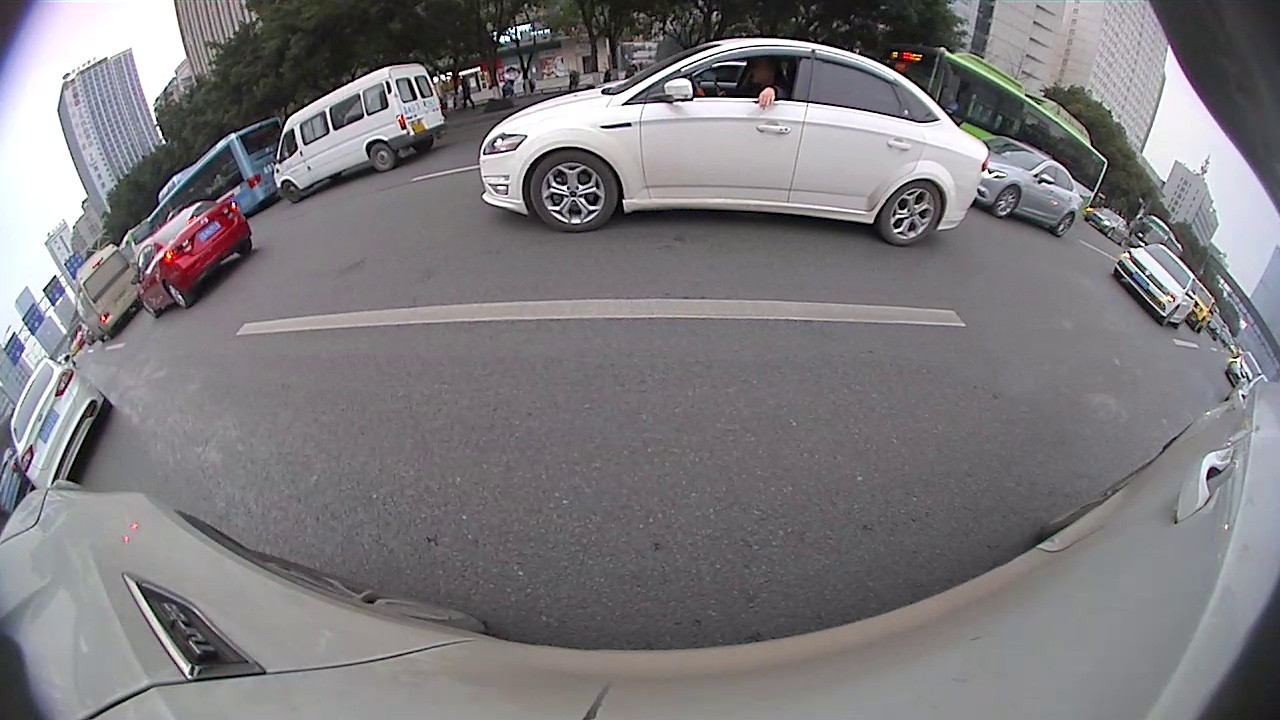bus: (885, 41, 1106, 236), (147, 118, 283, 235), (75, 245, 136, 339)
car: (480, 39, 987, 245), (276, 65, 446, 202), (136, 200, 254, 318), (10, 357, 110, 490), (967, 138, 1079, 237), (1112, 244, 1196, 329)
front: (531, 151, 620, 232), (992, 185, 1021, 218), (281, 180, 299, 202)
rear: (883, 180, 944, 245), (163, 279, 195, 307), (370, 144, 397, 171), (1052, 213, 1074, 235)
